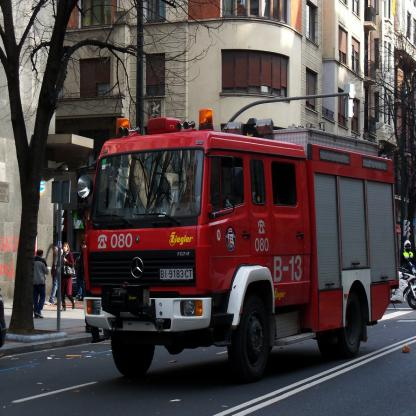Truck: (81, 112, 395, 385)
